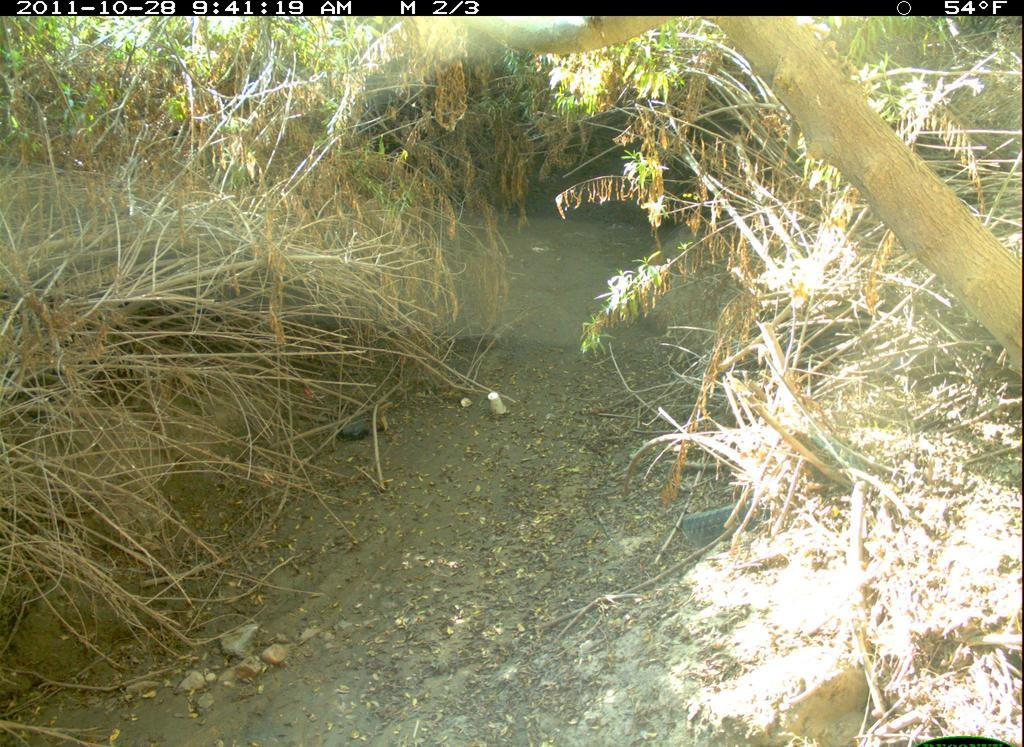squirrel: (809, 420, 859, 470)
